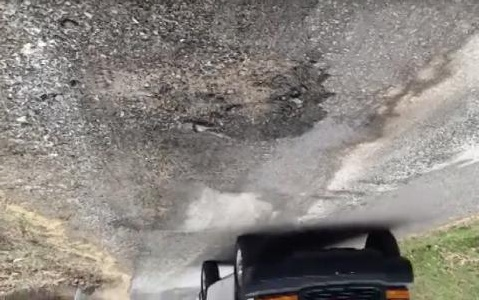pothole: (169, 48, 339, 143)
